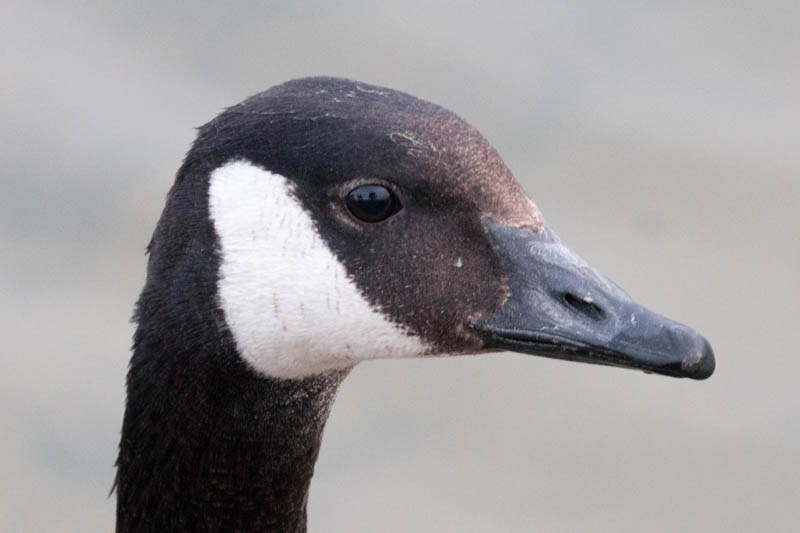goose-head: (146, 76, 716, 388)
